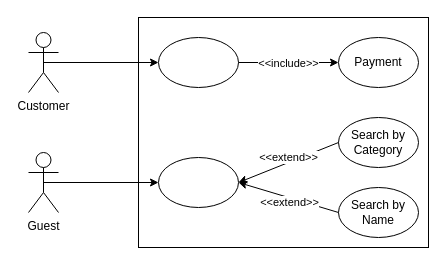
Some shapes in this 446 by 265 pixel diagram are drawn without their labels. Here are the shapes that lost their labels. From the top down, the centre of each, then its label:
(x=198, y=62): Checkout
(x=198, y=182): Search
